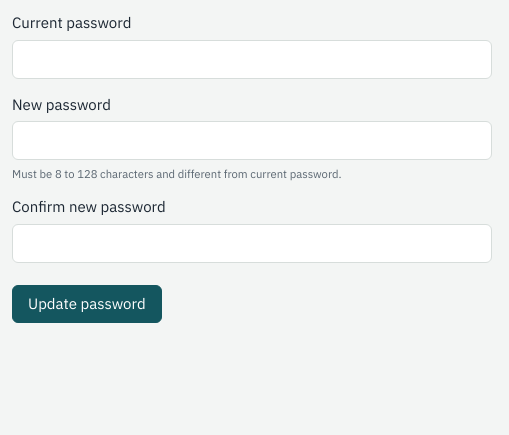
Scenario: ChangePasswordForm Component › submits valid payload and displays success message
The width and height of the screenshot is (509, 435).
Step 1. Type "OldPassword123!" into the password field labelled "Current password" → x=252, y=59, box [12,40,492,79]
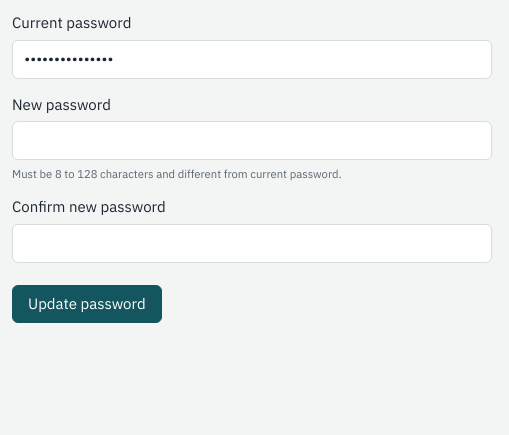
Step 2. Type "NewSecretPassword123!" into the password field labelled "New password" → x=252, y=141, box [12,121,492,160]
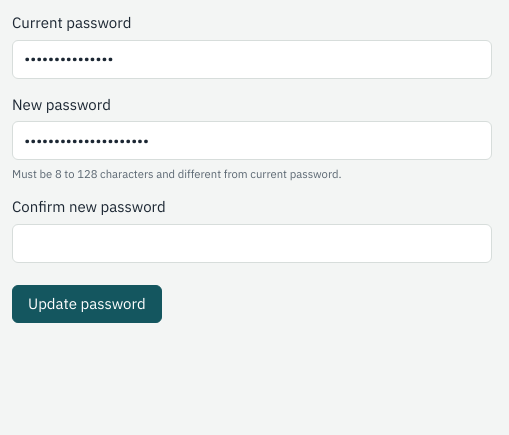
Step 3. Type "NewSecretPassword123!" into the password field labelled "Confirm new password" → x=252, y=243, box [12,224,492,262]
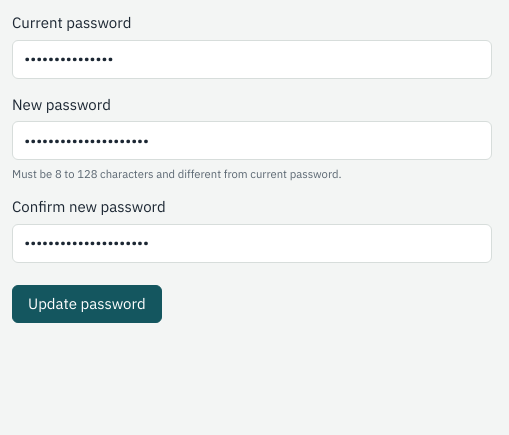
Step 4. Click the button "Update password" → x=87, y=304, box [12,285,162,323]
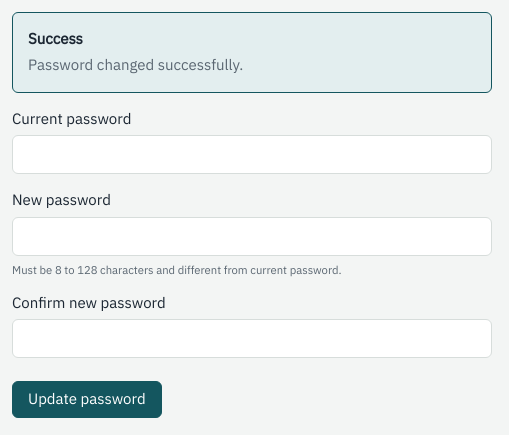
Now the text "Password changed successfully." is shown, box [28,55,243,74]
